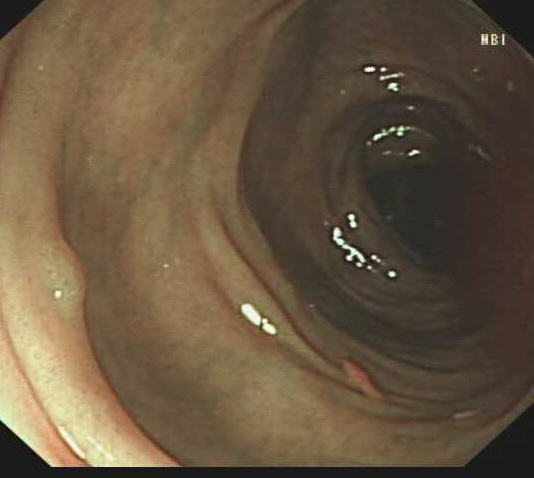adenoma: (38, 239, 88, 316)
